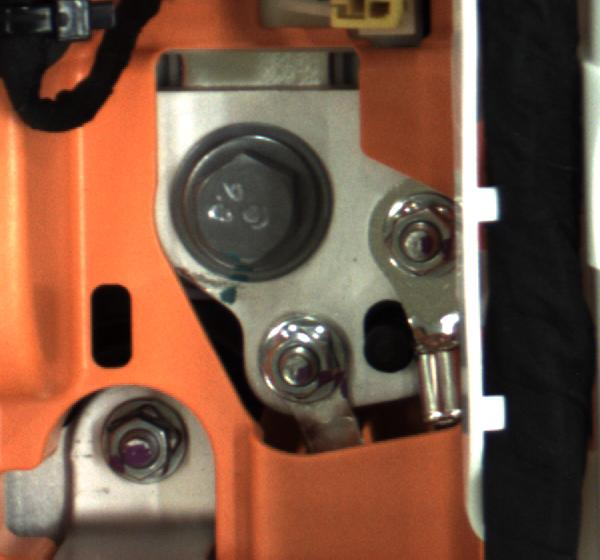nut_b: (161, 117, 341, 287)
screw_s: (105, 395, 196, 493), (251, 313, 348, 402), (368, 192, 470, 272)
